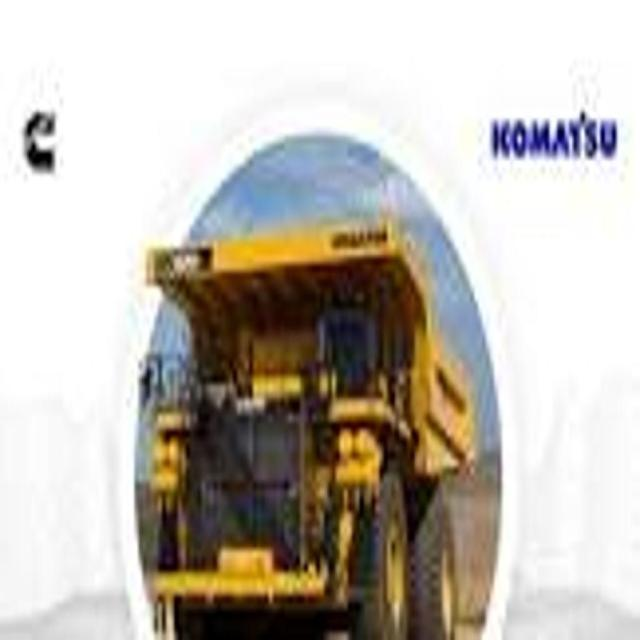dump_truck: (130, 211, 487, 640)
